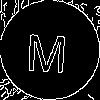M: (25, 25, 69, 73)
